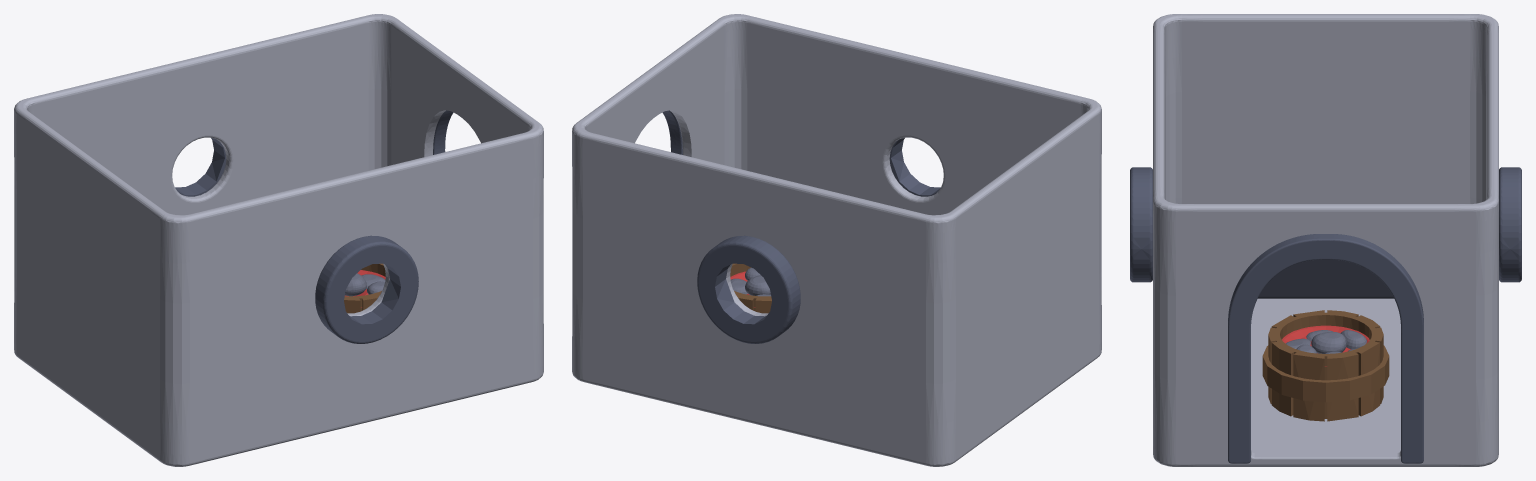
The model's file is Jjimjilbang_Stone.fbx.
3 views of the same model, side by side, from view 1: azimuth 30°, elevation 25°; view 2: azimuth 150°, elevation 25°; view 3: azimuth 270°, elevation 25° (orthographic). The views are drawn at different scales.
Parts seen in each view (by area): view 1: 개체_11, 개체_16, 개체_15, 개체_12; view 2: 개체_11, 개체_15, 개체_16, 개체_12; view 3: 개체_11, 개체_17, 개체_12, 개체_13, 개체_14, 개체_15, 개체_16, 개체_9, 개체_3.
Part boxes in pixels (x1,y1,x2,y2): 개체_11: [14, 14, 543, 466]; 개체_16: [315, 235, 418, 343]; 개체_15: [175, 138, 226, 196]; 개체_12: [344, 263, 385, 313]; 개체_11: [572, 14, 1101, 466]; 개체_15: [697, 235, 800, 343]; 개체_16: [889, 138, 940, 196]; 개체_12: [730, 263, 771, 313]; 개체_11: [1153, 14, 1498, 466]; 개체_17: [1228, 234, 1423, 463]; 개체_12: [1268, 310, 1383, 421]; 개체_13: [1258, 259, 1393, 298]; 개체_14: [1262, 345, 1389, 402]; 개체_15: [1499, 167, 1521, 282]; 개체_16: [1130, 167, 1152, 282]; 개체_9: [1311, 331, 1346, 353]; 개체_3: [1282, 325, 1369, 366].
Size of the model in its own units: 825 by 500 by 680.
